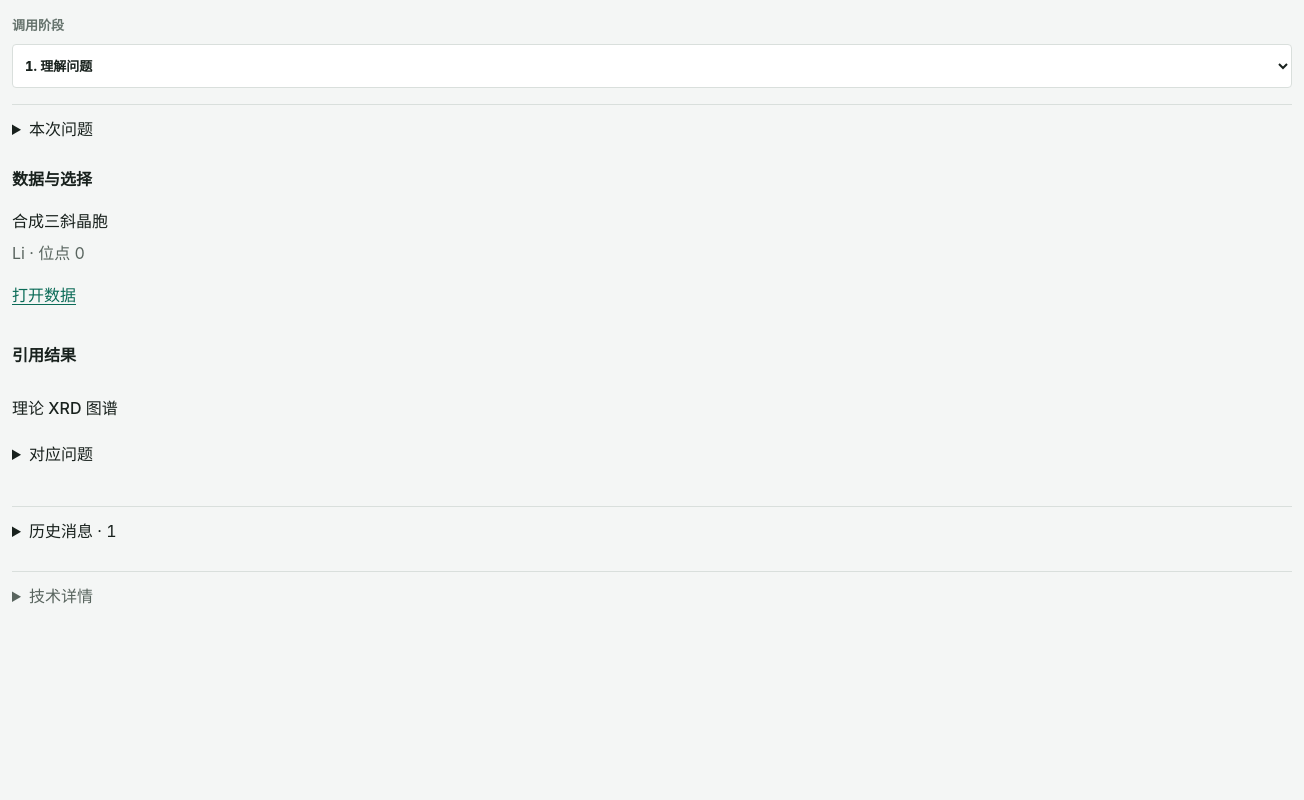
Test: switches between exact recorded model stages and distinguishes candidates from result methods
Select "2. 规划分析" in the dropdown labelled "调用阶段": {"x": 652, "y": 66} [12,44,1292,88]
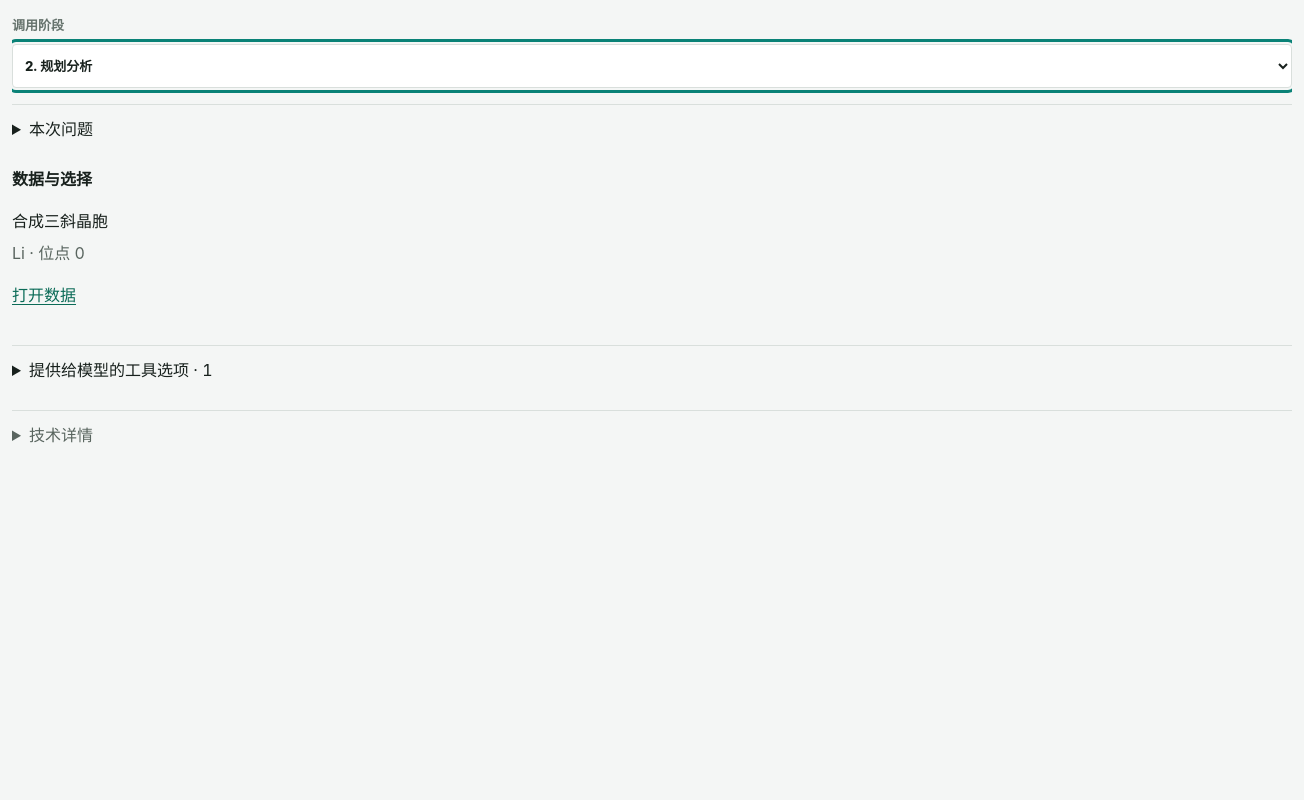
Click the heading "提供给模型的工具选项 · 1": {"x": 121, "y": 370} [29,360,212,380]
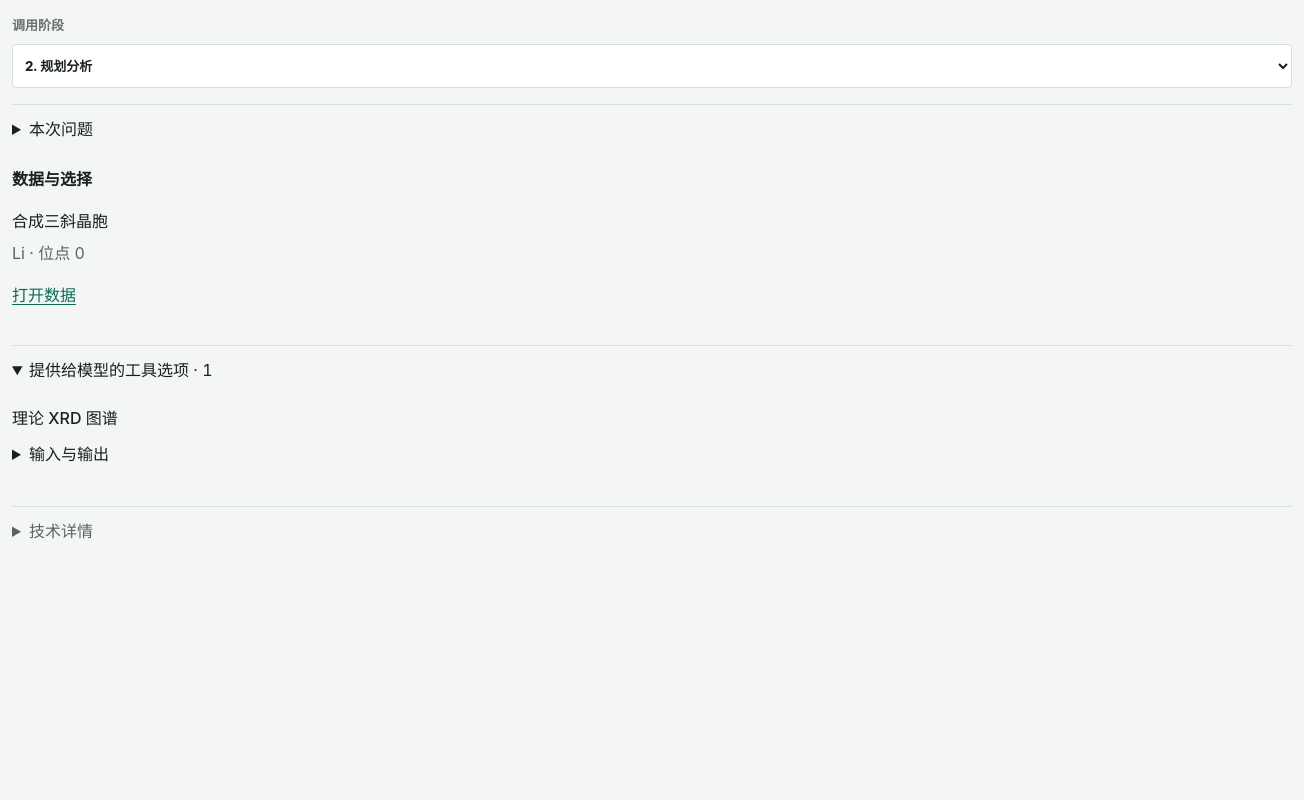
Expected: the text "结果中的工具与参数" is not shown
Now the text "理论 XRD 图谱" is shown, box [12,408,118,428]
Select "3. 解释结果" in the dropdown labelled "调用阶段": {"x": 652, "y": 66} [12,44,1292,88]
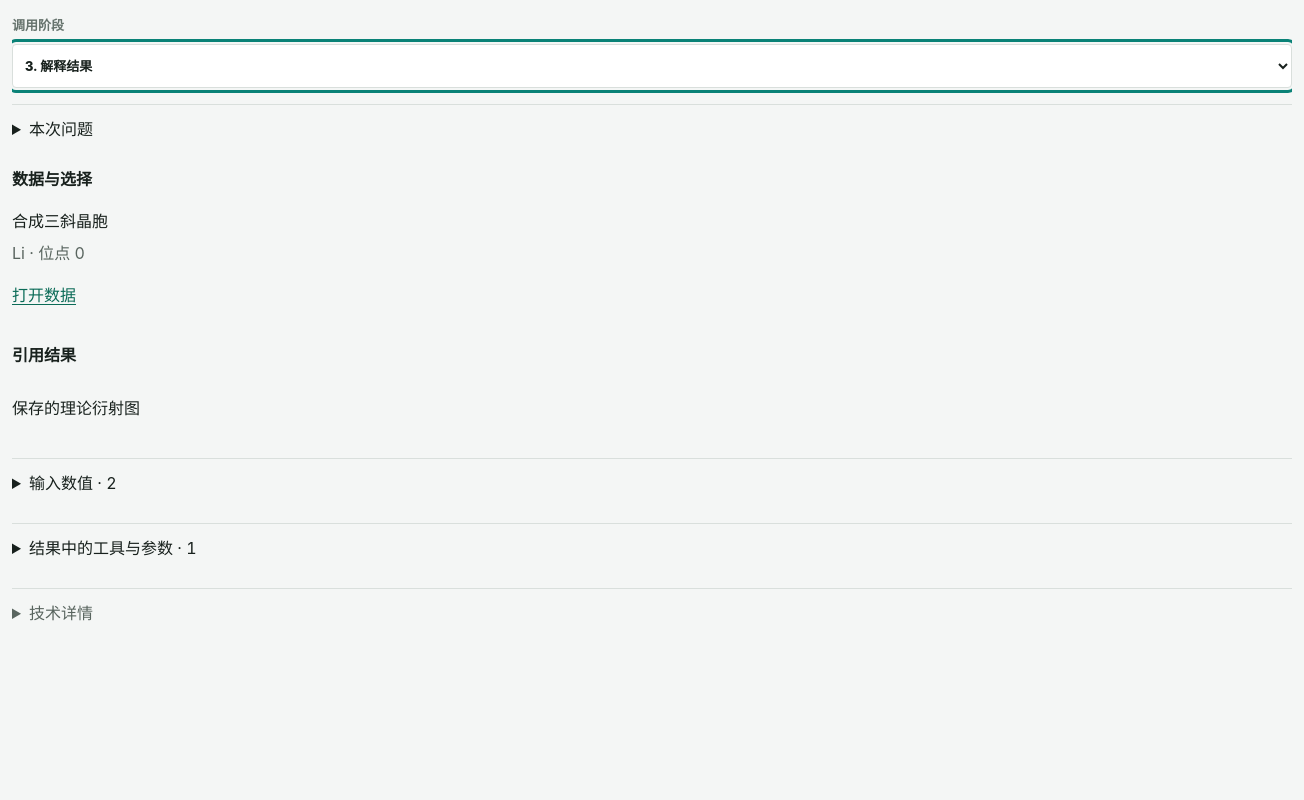
Now the text "保存的理论衍射图" is shown, box [12,398,140,418]
Click the heading "输入数值 · 2": {"x": 73, "y": 483} [29,473,116,493]
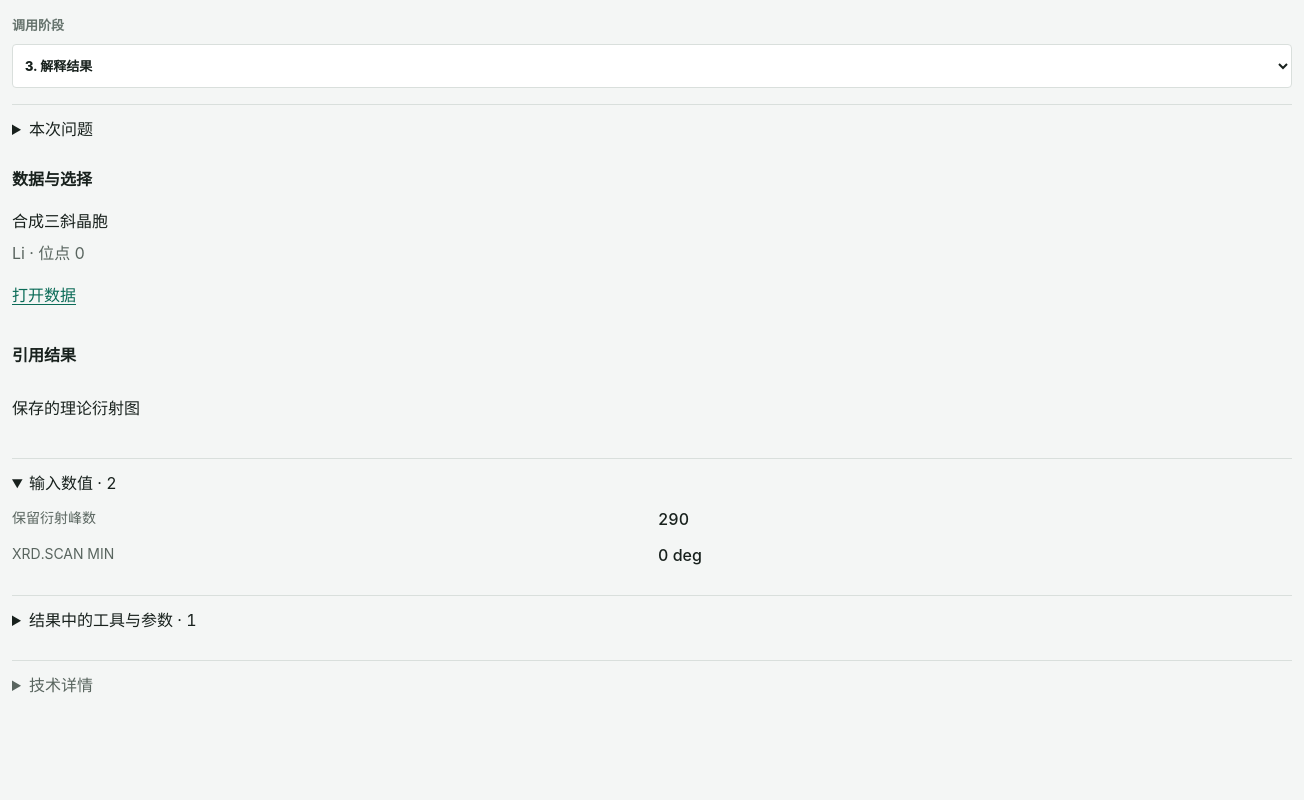
Now the heading "结果中的工具与参数 · 1" is shown, box [29,610,196,630]
Now the text "290" is shown, box [658,509,689,529]
Now the text "0 deg" is shown, box [658,545,702,565]
